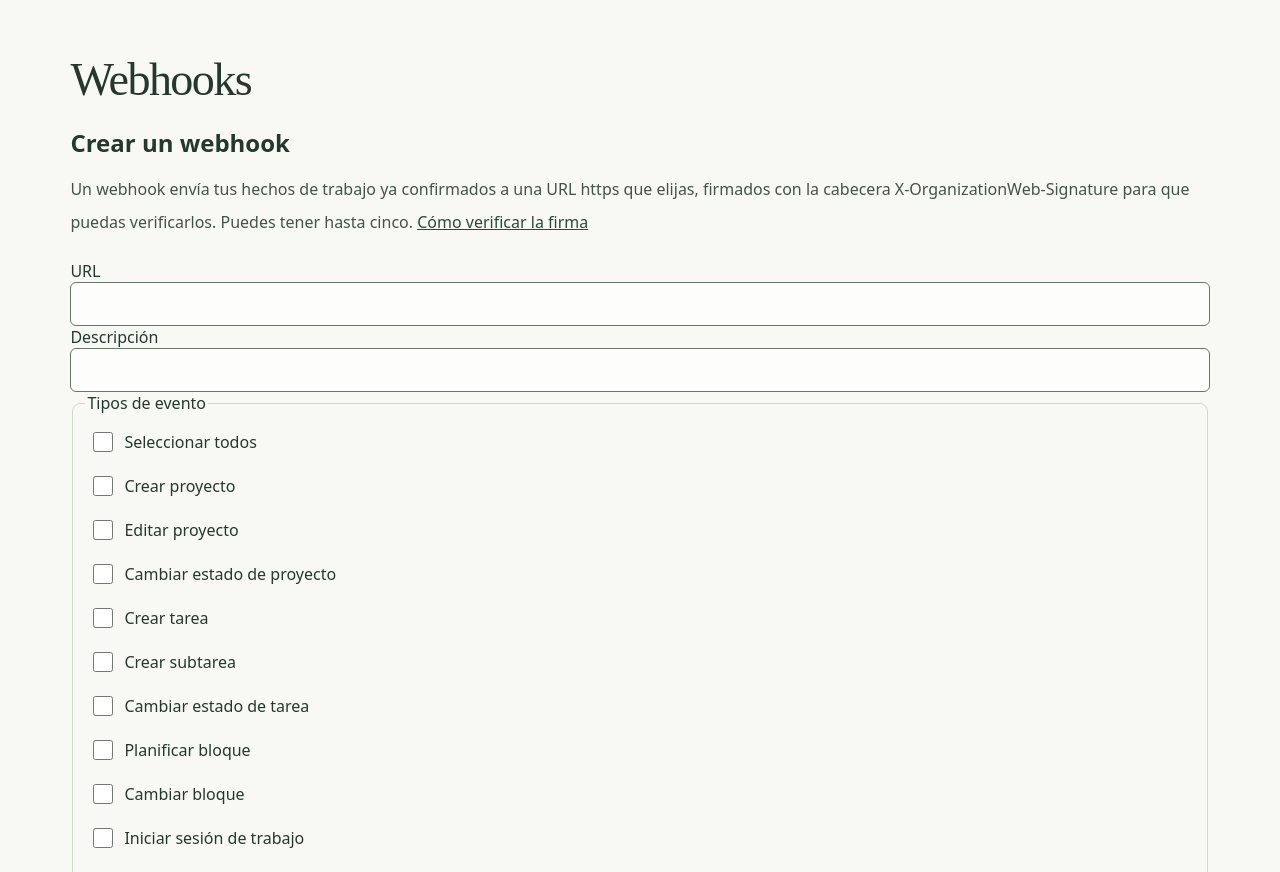
Test: @s37 never shows a created secret when it is one that does not match whsec_ plus 43 base64url characters
In the field labelled "URL": (640, 304) [70,282,1210,326], type "https://example.com/hooks"
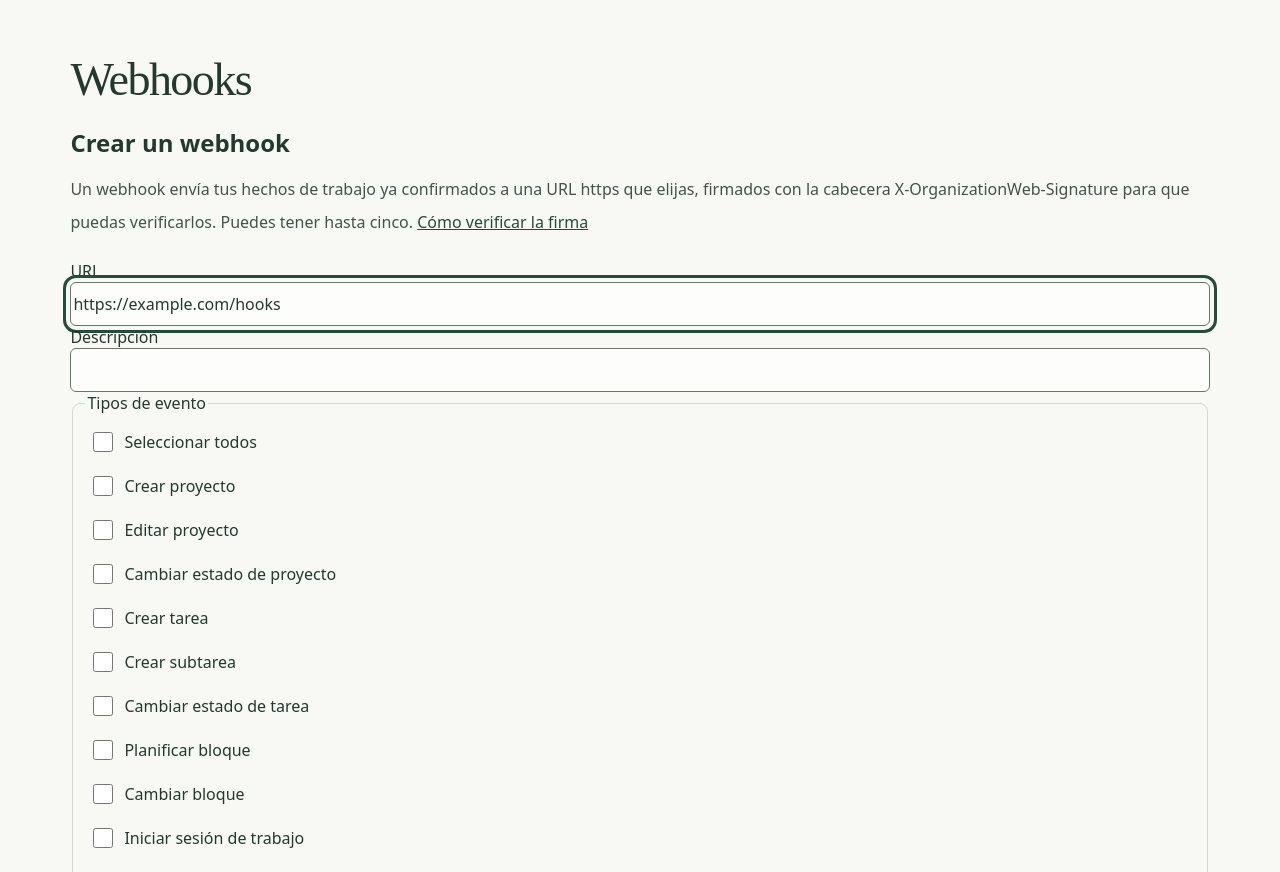
Click the checkbox labelled "Crear tarea": (103, 618) [93,608,113,628]
(page scrolled)
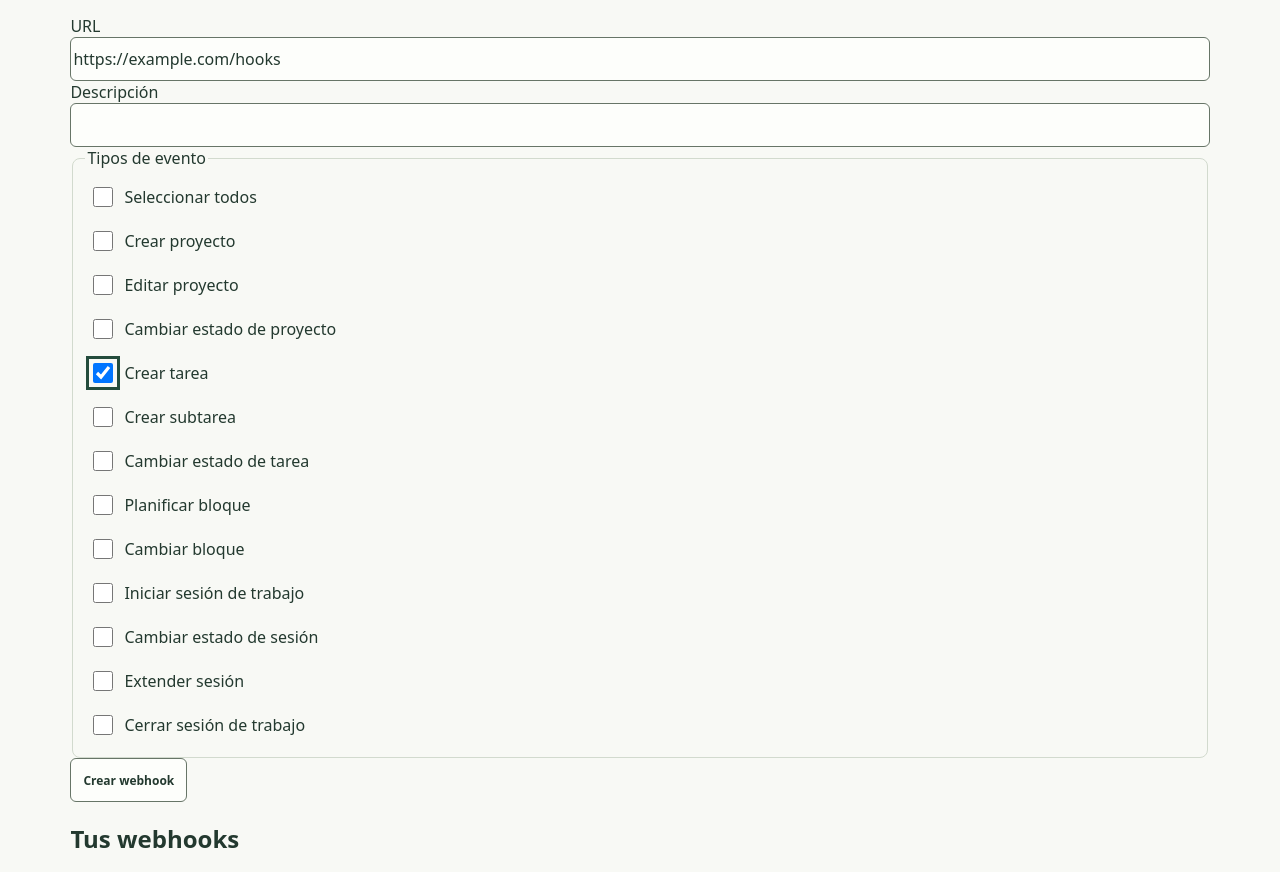
Click the button "Crear webhook": (129, 780) [70,758,187,802]
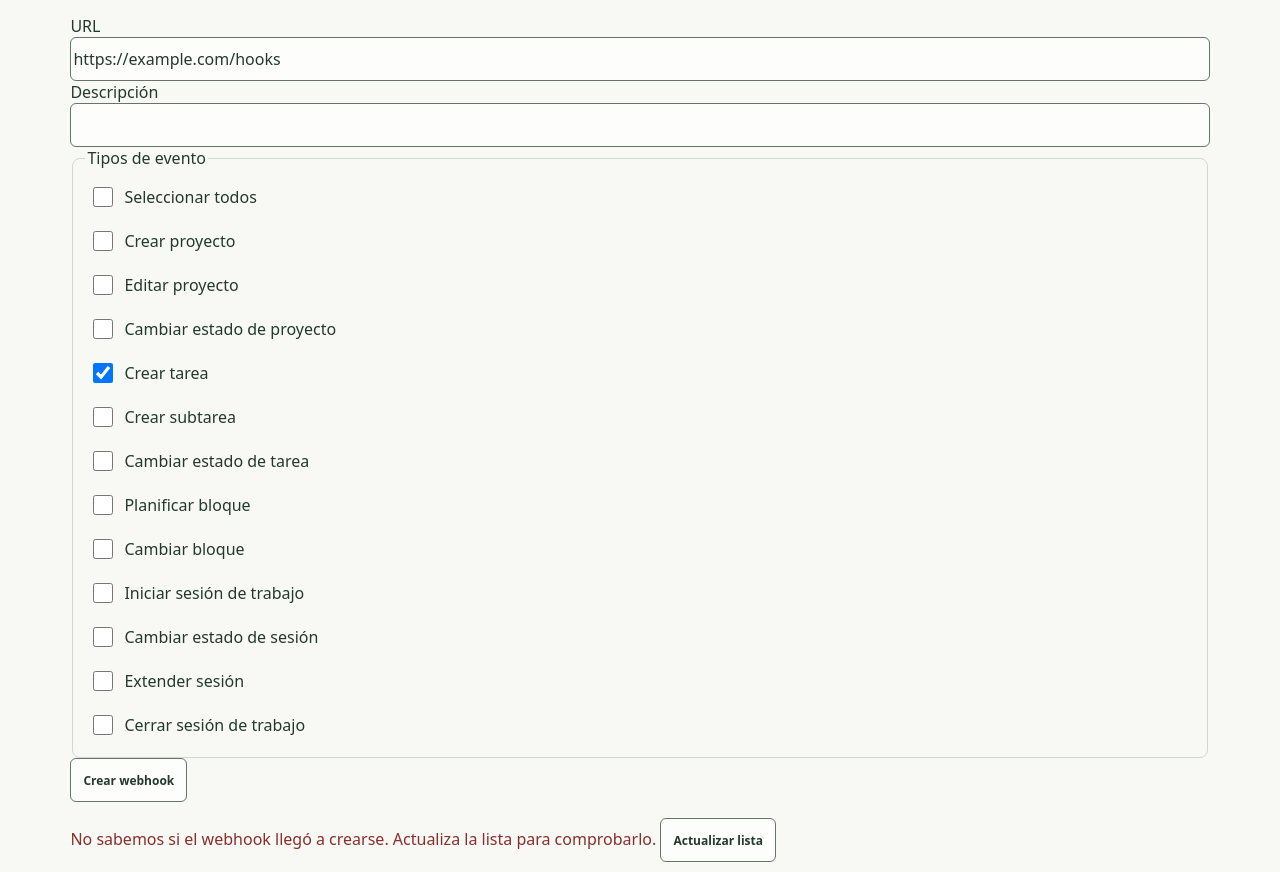
expect the message shows "No sabemos": met, box [70,828,656,850]
